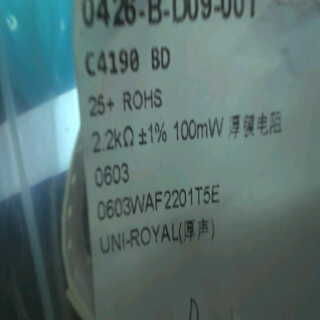2.2kR: (86, 122, 137, 161)
